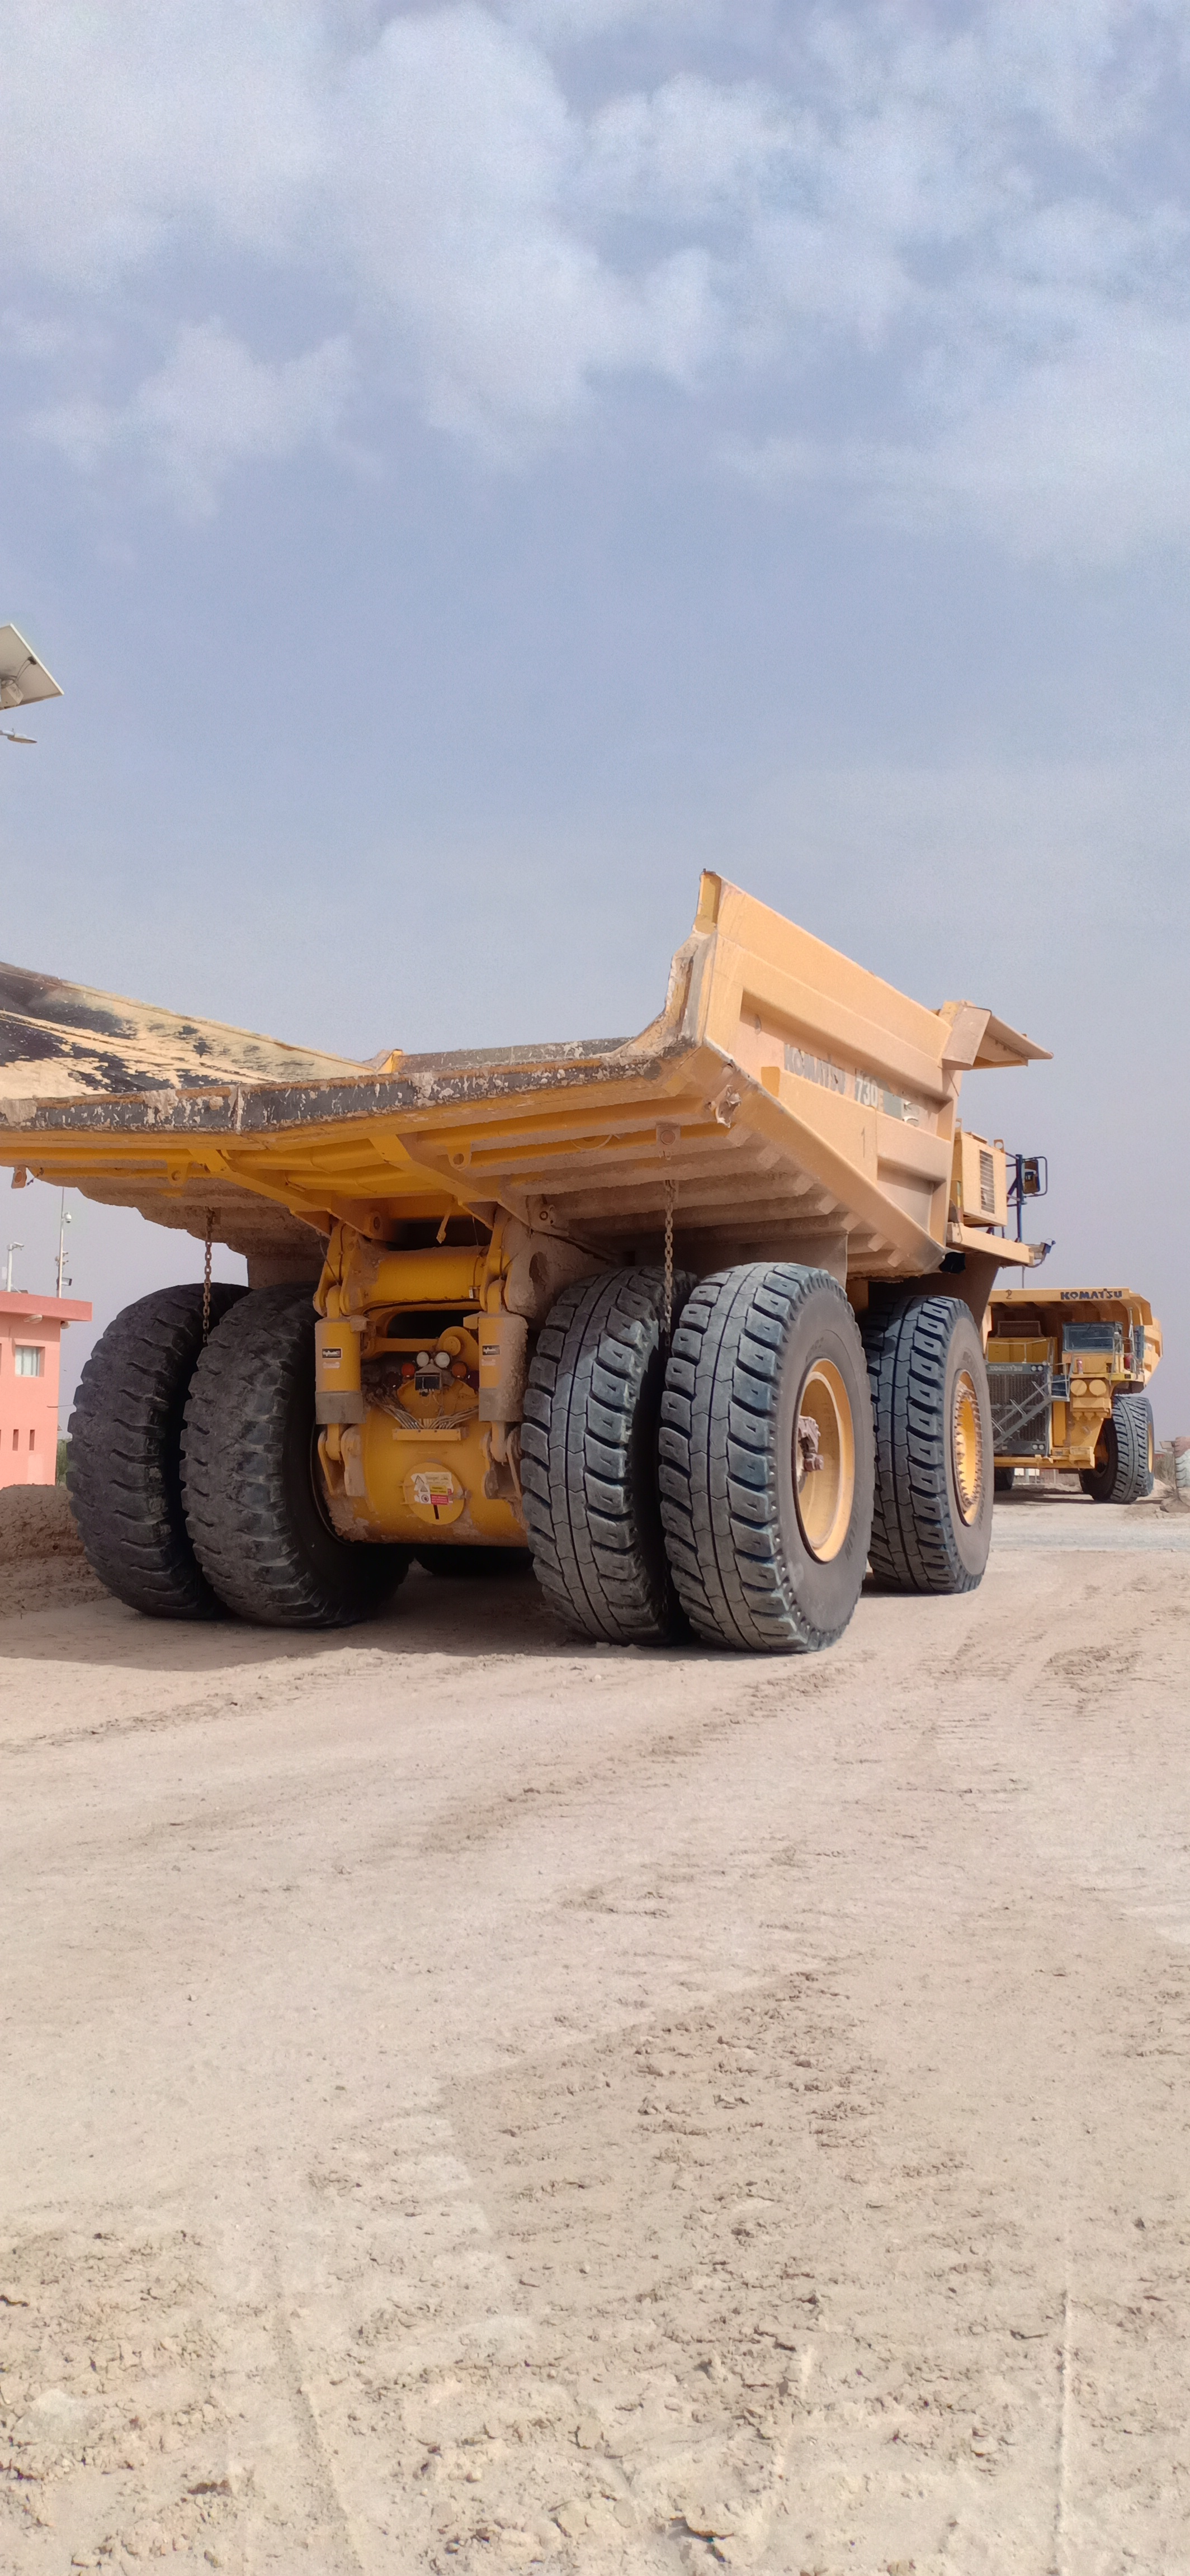camion: (0, 871, 1077, 1686), (897, 1265, 1180, 1505)
